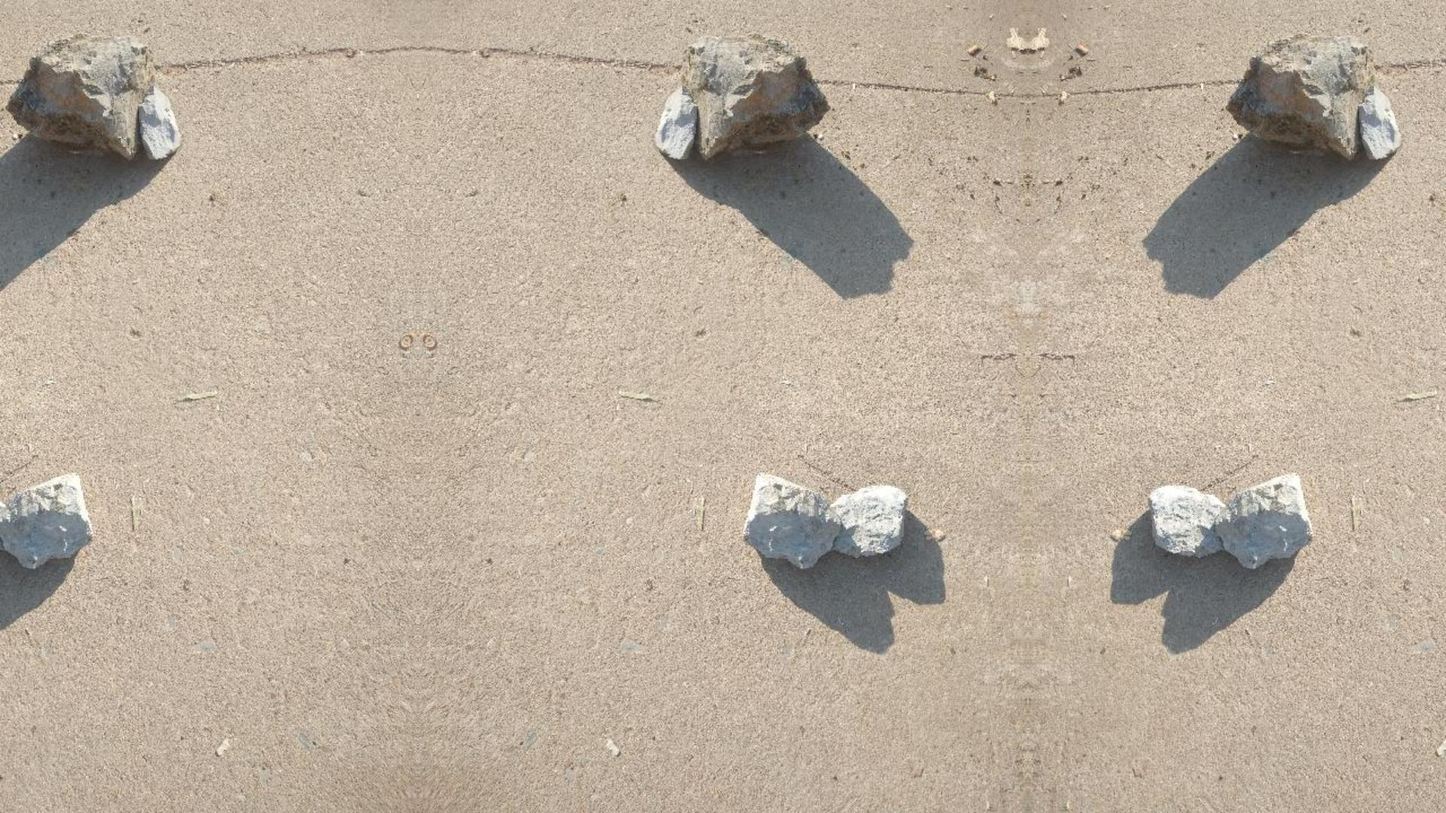rock: (656, 35, 827, 159), (1228, 35, 1399, 159), (8, 35, 178, 159), (743, 473, 836, 568), (0, 473, 93, 568), (1219, 474, 1312, 567), (829, 486, 907, 556), (1149, 486, 1227, 556), (138, 84, 181, 160), (1357, 86, 1401, 160), (654, 86, 697, 159), (0, 501, 8, 524), (0, 532, 3, 549)
